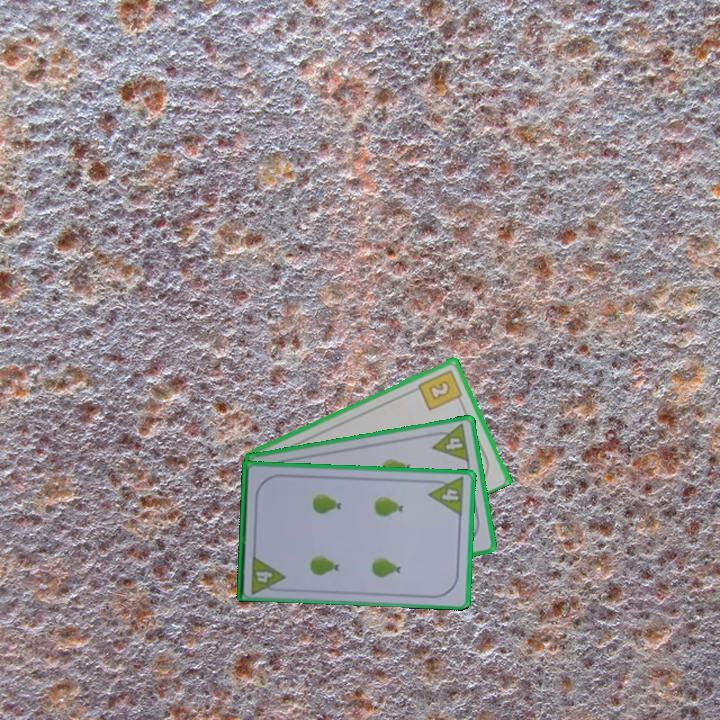2b: (415, 366, 466, 413)
4p: (427, 420, 472, 465), (426, 474, 467, 518), (247, 551, 287, 596)
